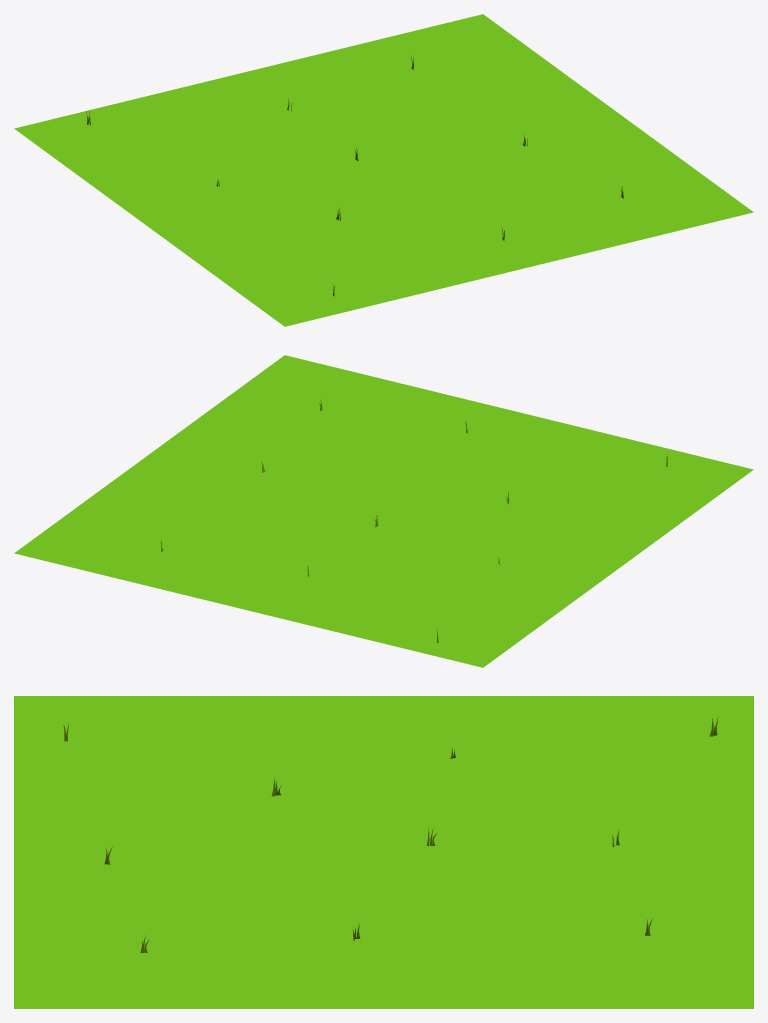
Rendered from suelo1.fbx.
The picture shows the model from 3 angles, top to bottom: view 1: azimuth 30°, elevation 25°; view 2: azimuth 150°, elevation 25°; view 3: azimuth 270°, elevation 25°; orthographic projection. The views are drawn at different scales.
Parts seen in each view (by area): view 1: suelo1; view 2: suelo1; view 3: suelo1.
Part boxes in pixels (left/top/right/bottom): suelo1: left=14, top=14, right=753, bottom=326; suelo1: left=14, top=355, right=753, bottom=667; suelo1: left=14, top=696, right=753, bottom=1008.
Bounding box in the file's own units: 10 × 0.3253 × 10.
